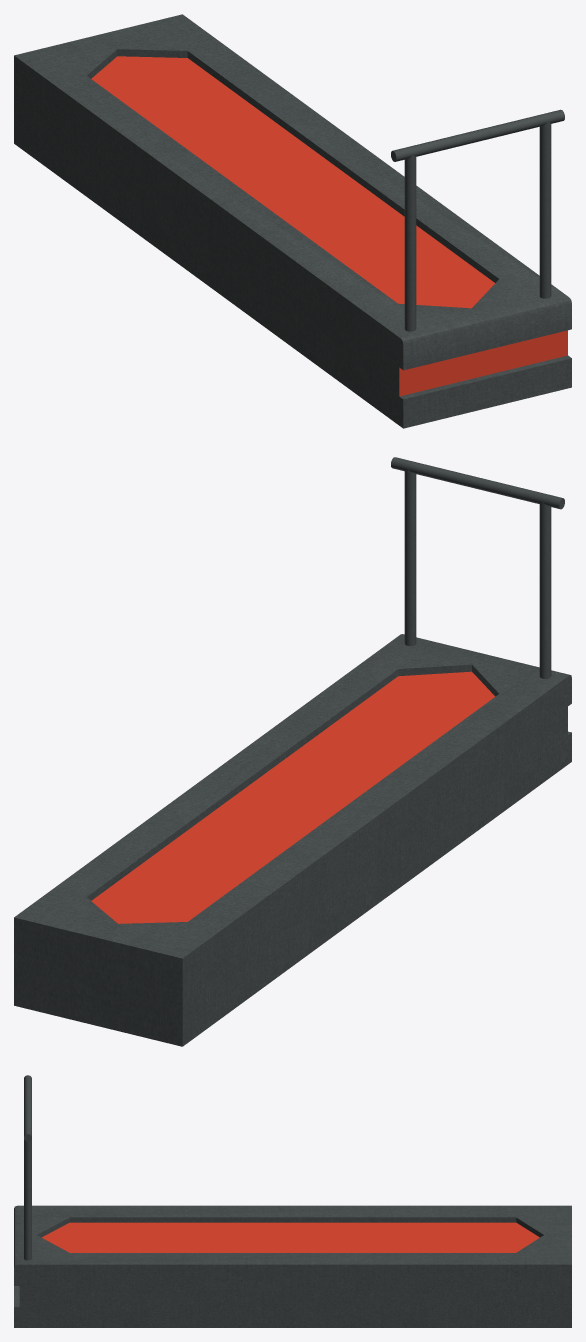
The model's file is Platform_Standard_Red.FBX.
The picture shows the model from 3 angles, top to bottom: view 1: azimuth 30°, elevation 25°; view 2: azimuth 150°, elevation 25°; view 3: azimuth 270°, elevation 25°; orthographic projection. The views are drawn at different scales.
Parts seen in each view (by area): view 1: Main_Platform, RainlingSupport, RainlingSupport001, RainlingSupport002; view 2: Main_Platform, RainlingSupport, RainlingSupport001, RainlingSupport002; view 3: Main_Platform, RainlingSupport, RainlingSupport002.
Boxes of the visible parts, x1,y1,x2,y2 form: Main_Platform: (14,14,571,428); RainlingSupport: (539,121,551,298); RainlingSupport001: (404,154,416,331); RainlingSupport002: (391,109,564,161); Main_Platform: (14,634,571,1046); RainlingSupport: (404,469,416,645); RainlingSupport001: (539,502,551,678); RainlingSupport002: (391,457,564,509); Main_Platform: (14,1205,571,1327); RainlingSupport: (24,1139,31,1260); RainlingSupport002: (24,1075,31,1141).
Bounding box in the file's own units: 39.37 × 60.34 × 157.
Materials: 2 (2 with a texture image).
